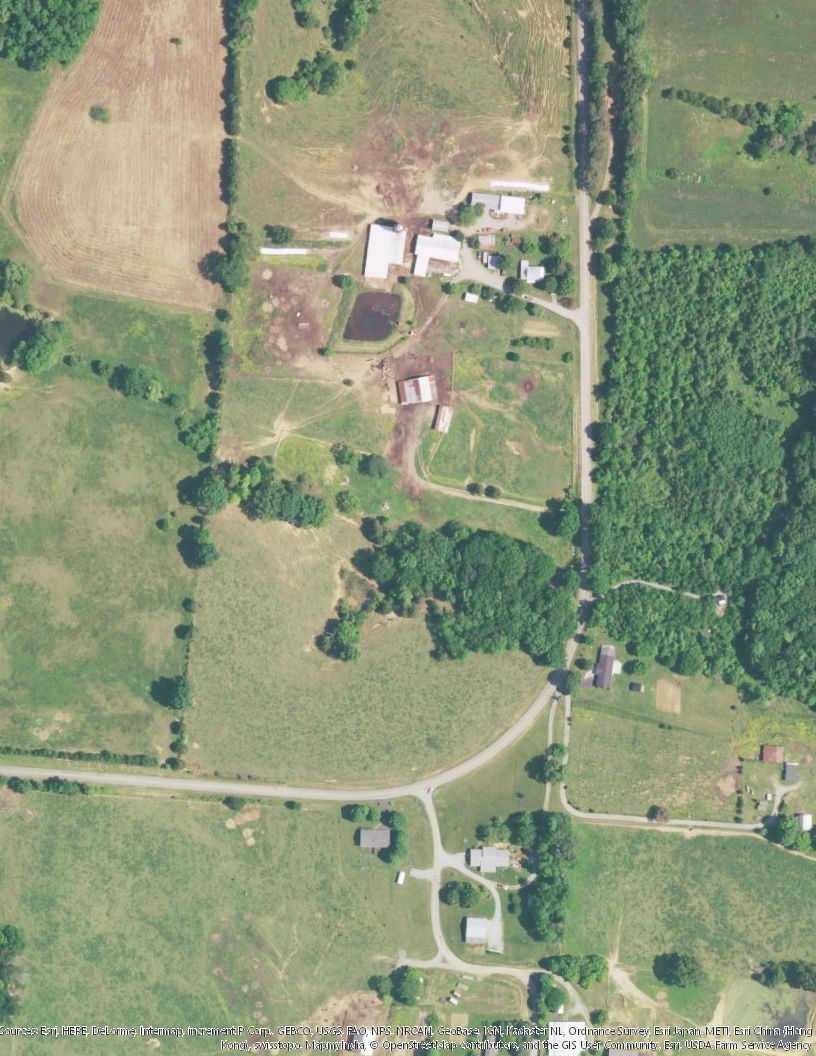cafo: (409, 208, 464, 281), (354, 215, 412, 284), (393, 370, 451, 408)
